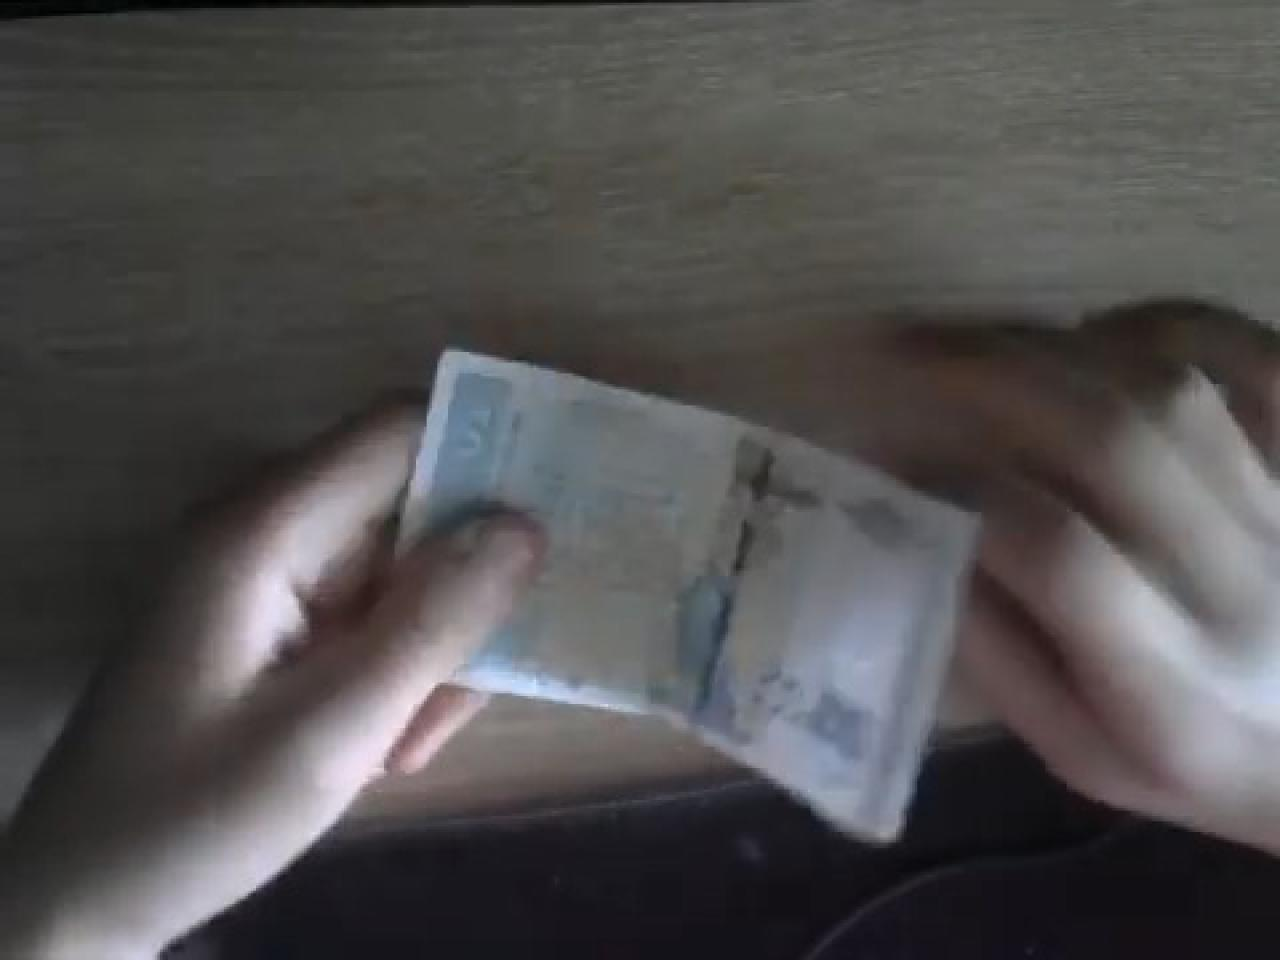20leva: (387, 344, 985, 851)
